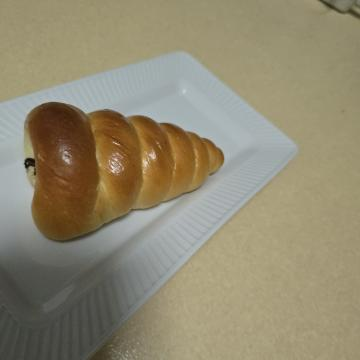cream horn: (80, 122, 258, 353)
